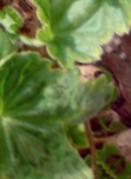Tomato leaf mosaic virus: (0, 8, 131, 179), (10, 0, 113, 84)
